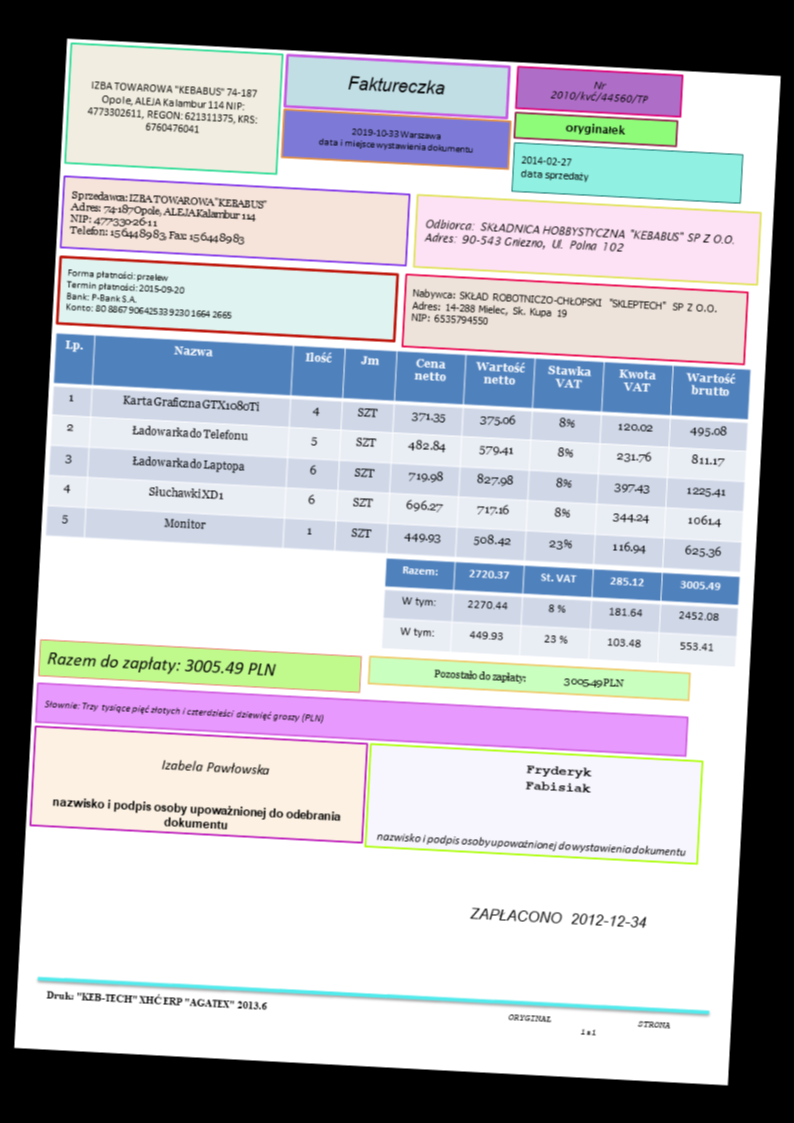Table: (43, 331, 751, 574), (379, 555, 742, 667)
TextBox: (409, 285, 719, 339), (420, 215, 737, 260), (66, 185, 268, 248), (49, 794, 342, 837), (83, 76, 261, 138), (373, 827, 688, 859), (62, 265, 234, 320), (42, 698, 326, 725), (45, 647, 278, 678), (42, 987, 270, 1014), (315, 123, 476, 157), (466, 904, 650, 932), (506, 1010, 671, 1040), (430, 666, 625, 690), (547, 75, 651, 108), (522, 761, 595, 795), (346, 73, 446, 97), (518, 153, 590, 185), (159, 757, 271, 777), (562, 119, 627, 138)
